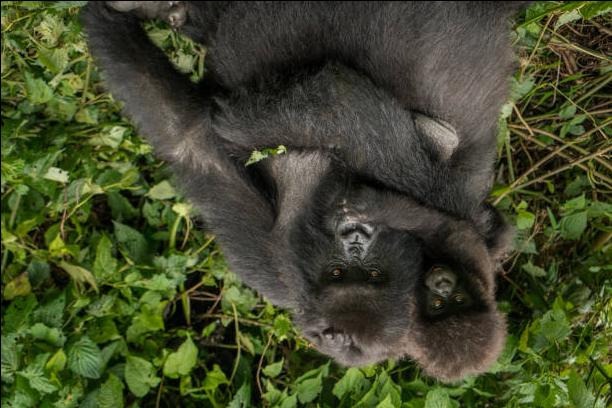goriile_montagne: (86, 11, 498, 376)
